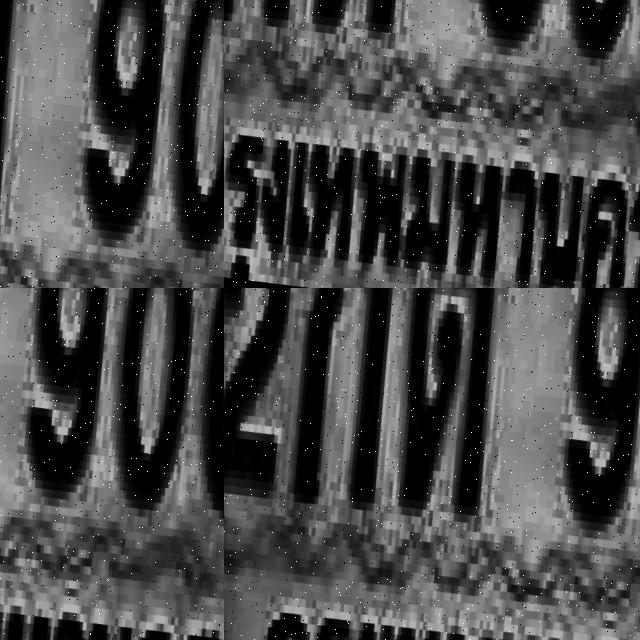license-plate: (224, 288, 640, 640), (0, 288, 198, 640)
